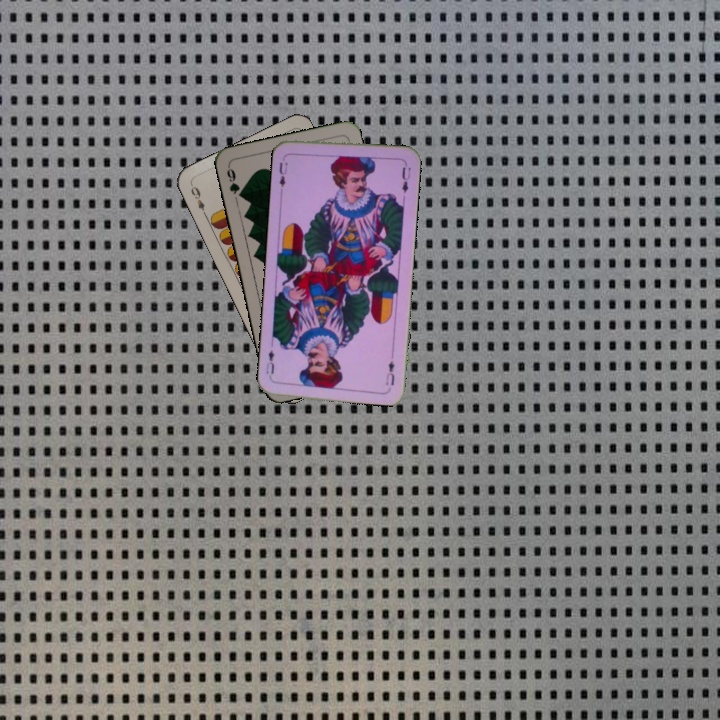E9: (187, 180, 209, 219)
EU: (275, 152, 290, 193), (382, 357, 397, 388)
G9: (223, 162, 246, 201)
